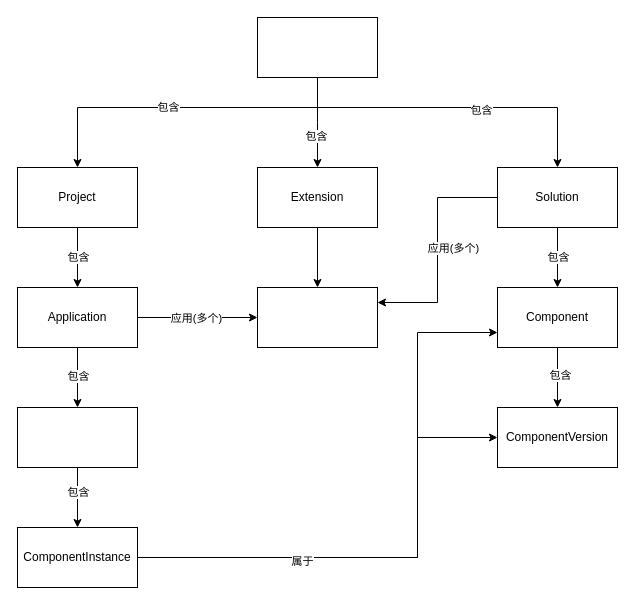
Image size: 635x605. Some labels were removed from this diagram. Each missing label, with the centre of its shape:
"ExtensionInstance" belongs at (x=317, y=317).
"Orgaization" belongs at (x=317, y=47).
"Release" belongs at (x=77, y=437).
